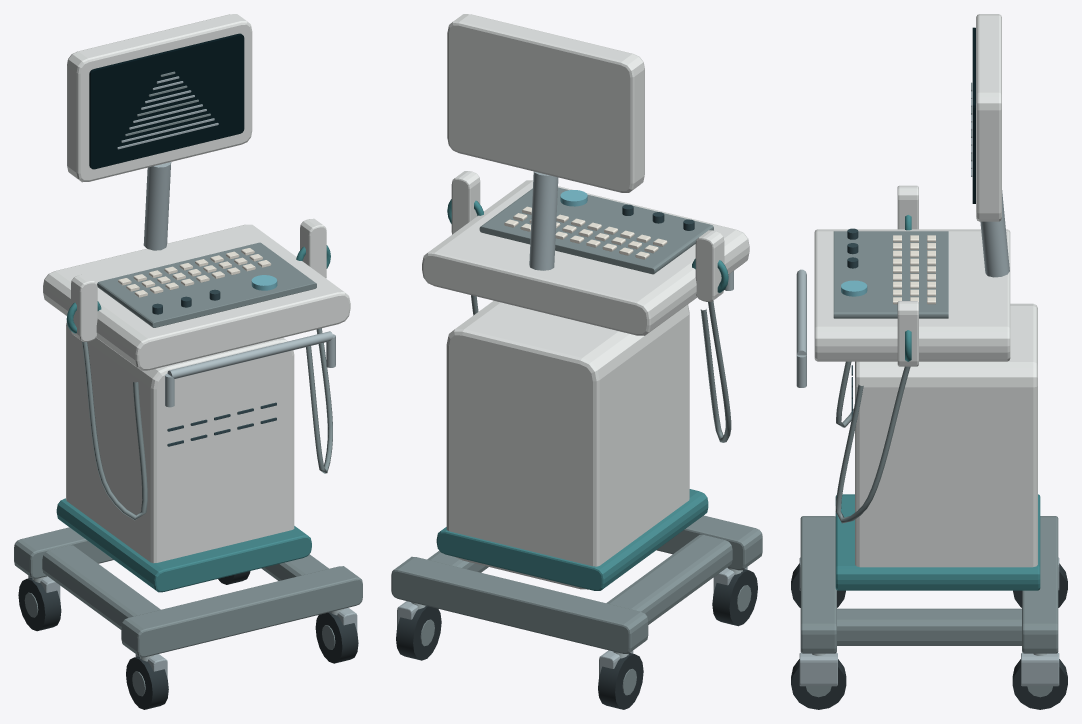
The model's file is ultrasound-cart.glb.
3 renders of one model, left to right at view 1: azimuth 30°, elevation 25°; view 2: azimuth 150°, elevation 25°; view 3: azimuth 270°, elevation 25°, orthographic. The views are drawn at different scales.
Visible parts, largest first — view 1: ultrasound-cart-batch (×7), ultrasound-cart; view 2: ultrasound-cart-batch (×6); view 3: ultrasound-cart-batch (×7), ultrasound-cart.
Part boxes in pixels (x1,y1,x2,y2): ultrasound-cart-batch (×7): (14,14,362,709); ultrasound-cart: (89,33,277,290); ultrasound-cart-batch (×6): (391,14,762,709); ultrasound-cart-batch (×7): (791,14,1067,709); ultrasound-cart: (841,27,975,296).
Size of the model in its own units: 0.738 by 1.57 by 0.65.
